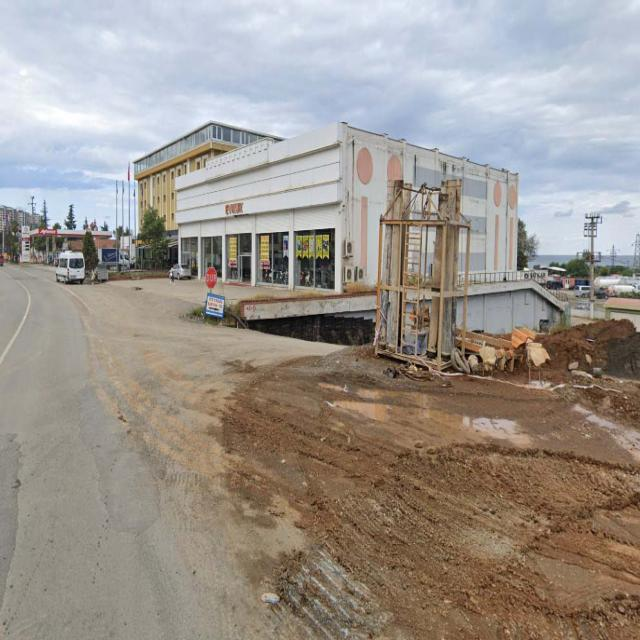dur: (207, 267, 216, 288)
